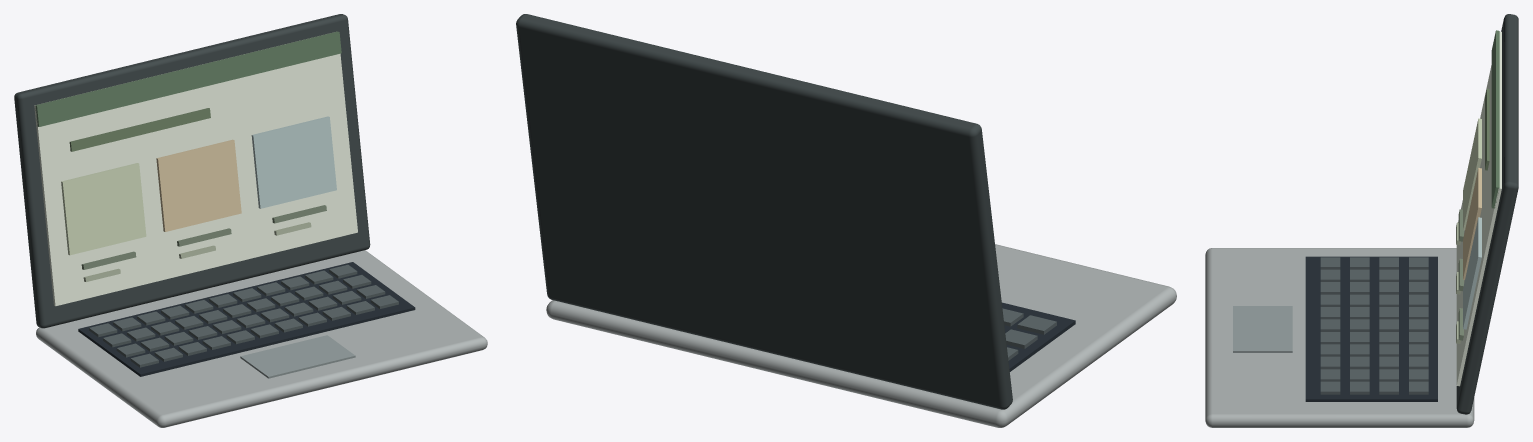
File: laptop.glb
3 views of the same model, side by side, from view 1: azimuth 30°, elevation 25°; view 2: azimuth 150°, elevation 25°; view 3: azimuth 270°, elevation 25° (orthographic). The views are drawn at different scales.
Size of the model in its own units: 0.95 by 0.6377 by 0.7342.
